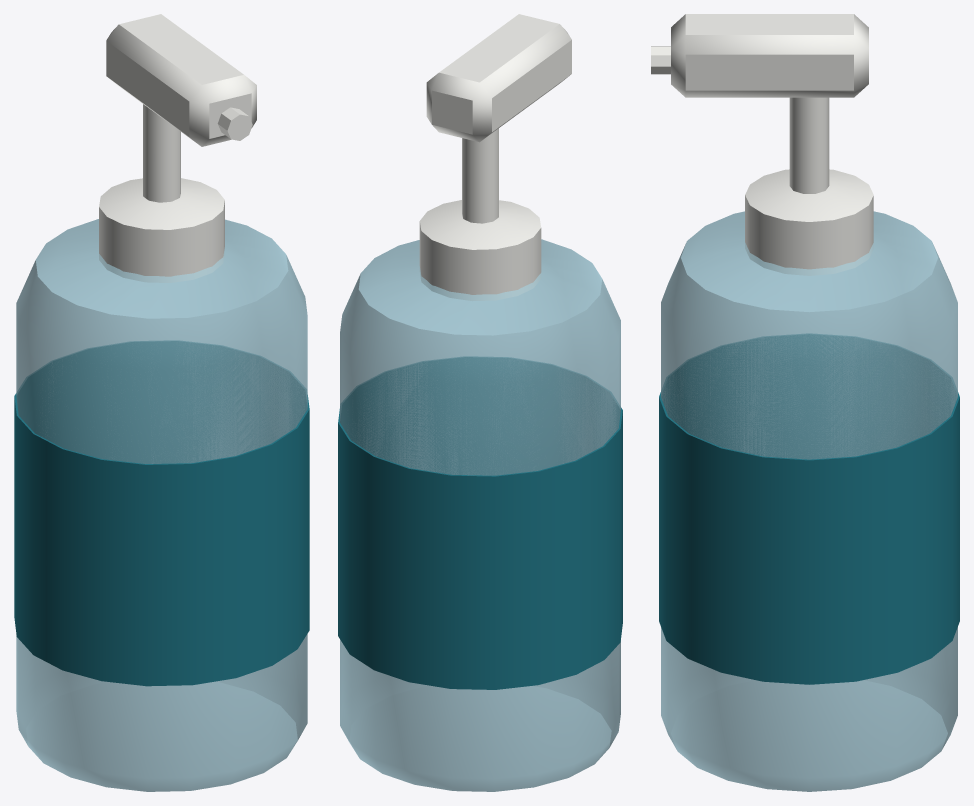
File: hand_sanitizer.glb
3 views of the same model, side by side, from view 1: azimuth 30°, elevation 25°; view 2: azimuth 150°, elevation 25°; view 3: azimuth 270°, elevation 25° (orthographic). The views are drawn at different scales.
Parts seen in each view (by area): view 1: hand_sanitizer; view 2: hand_sanitizer; view 3: hand_sanitizer.
Part boxes in pixels (box(x1,y1,x2,y2)): hand_sanitizer: box(14, 14, 309, 791); hand_sanitizer: box(338, 14, 622, 791); hand_sanitizer: box(651, 14, 959, 791).
Bounding box in the file's own units: 0.0585 × 0.1519 × 0.06.
